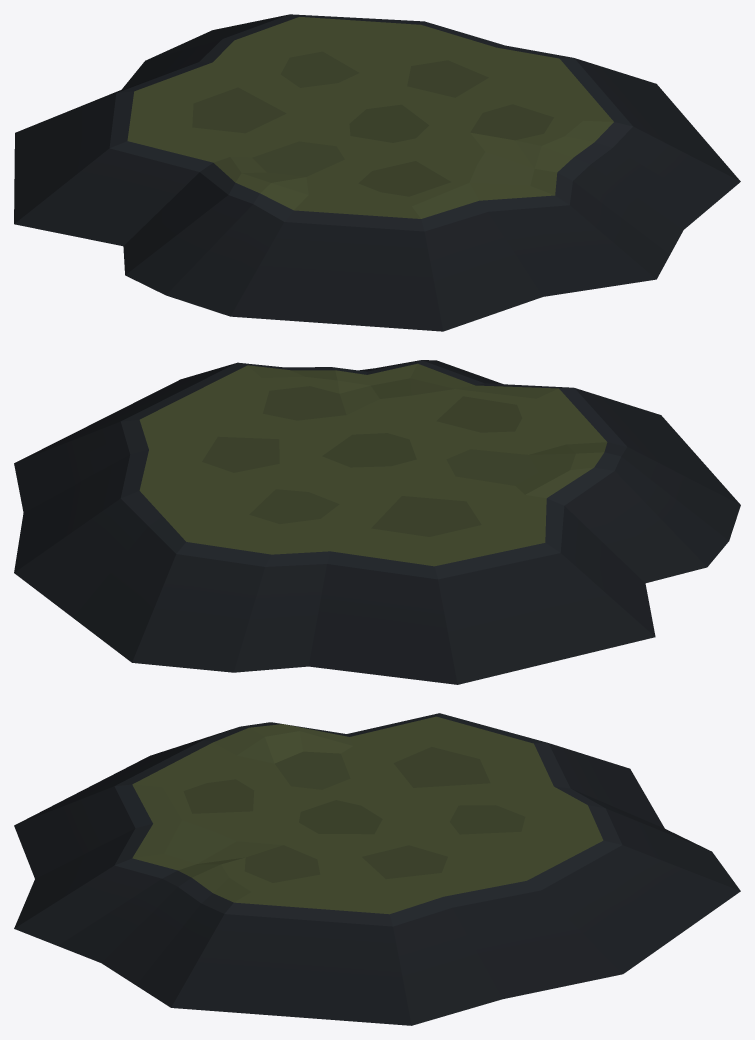
The model's file is board.glb.
3 views of the same model, one above another, from view 1: azimuth 30°, elevation 25°; view 2: azimuth 150°, elevation 25°; view 3: azimuth 270°, elevation 25° (orthographic). The views are drawn at different scales.
Visible parts, largest first — view 1: Cylinder; view 2: Cylinder; view 3: Cylinder.
Boxes of the visible parts, x1,y1,x2,y2 form: Cylinder: [14, 14, 740, 331]; Cylinder: [14, 360, 740, 684]; Cylinder: [14, 713, 740, 1025].
Size of the model in its own units: 87.23 by 8.95 by 88.49.
Materials: 1 (1 with a texture image).
